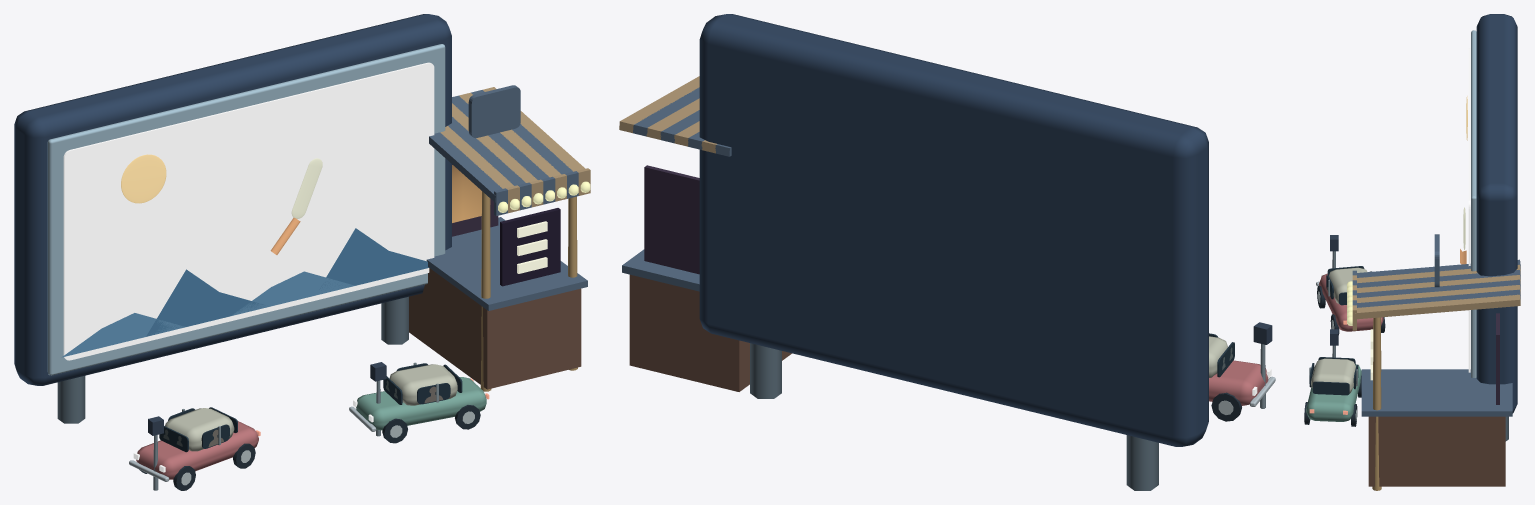
The model's file is drivein-map.glb.
3 views of the same model, side by side, from view 1: azimuth 30°, elevation 25°; view 2: azimuth 150°, elevation 25°; view 3: azimuth 270°, elevation 25° (orthographic). The views are drawn at different scales.
Visible parts, largest first — view 1: place-static, blue-cinema-screen, movie, large-place-glows; view 2: place-static; view 3: place-static, blue-cinema-screen, movie.
Boxes of the visible parts, box(x1,y1,x2,y2) form: place-static: box(14, 14, 590, 490); blue-cinema-screen: box(63, 62, 434, 360); movie: box(61, 154, 428, 357); large-place-glows: box(452, 165, 490, 222); place-static: box(619, 14, 1275, 490); place-static: box(1304, 14, 1520, 490); blue-cinema-screen: box(1468, 48, 1470, 372); movie: box(1460, 96, 1467, 264).
Bounding box in the file's own units: 5.72 × 3.55 × 2.52.
